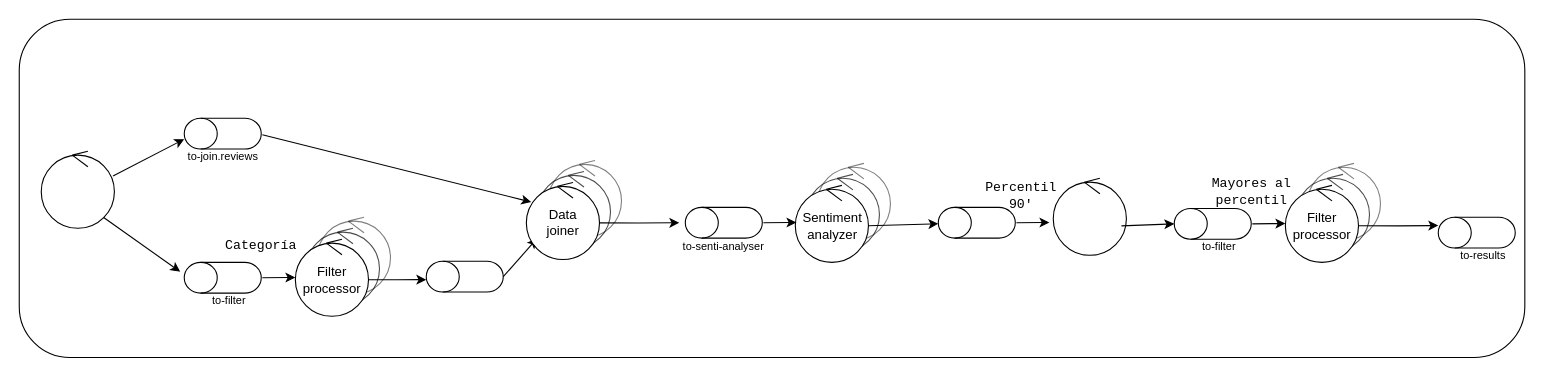
The diagram is 1555 pixels wide and 377 high, and some of its shapes have lost their labels. Here are the shapes that lost their labels. From the top down, the box of each, then its label:
(40, 154, 114, 228): Data cleaner
(937, 206, 1015, 238): to-count
(1052, 181, 1126, 255): Counter
(425, 260, 503, 292): to-join.books
